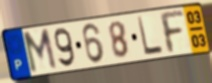6: (81, 22, 106, 66)
8: (108, 20, 131, 60)
9: (53, 26, 76, 68)
F: (157, 9, 187, 55)
L: (135, 15, 165, 58)
M: (21, 26, 60, 75)
